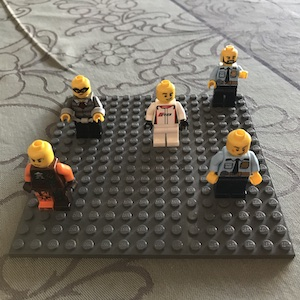Lego: (202, 127, 264, 200), (19, 138, 77, 210), (59, 73, 107, 138), (143, 79, 188, 148), (207, 44, 249, 103)
